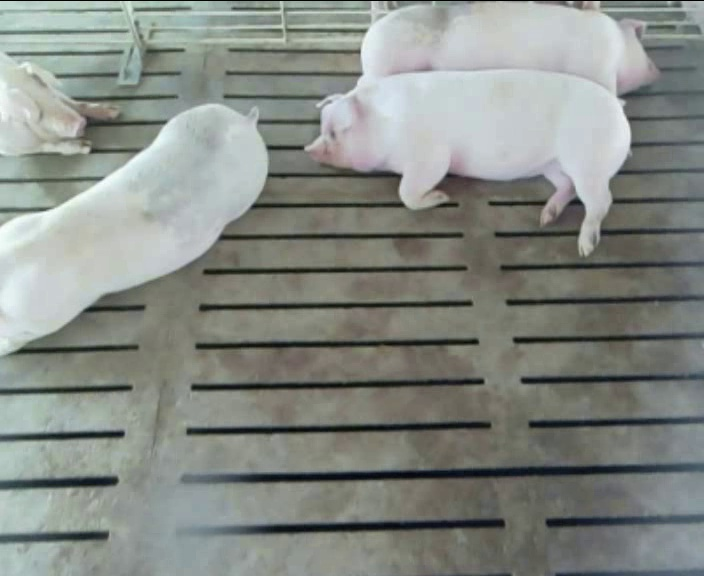pig: (0, 104, 267, 355), (305, 71, 630, 255), (361, 2, 659, 93)
